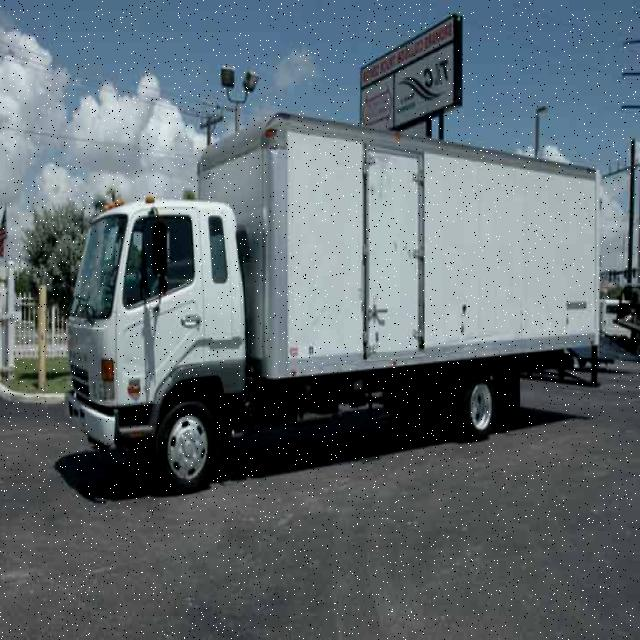truck: (69, 113, 602, 483)
